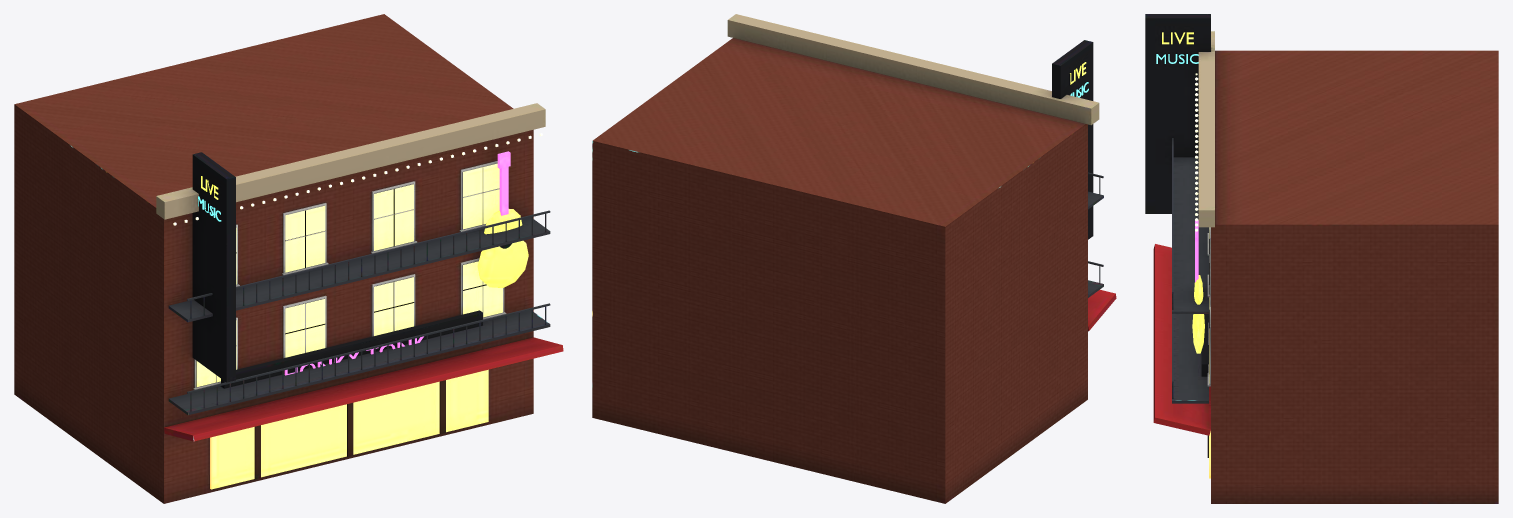
The model's file is honky_tonk.glb.
3 views of the same model, side by side, from view 1: azimuth 30°, elevation 25°; view 2: azimuth 150°, elevation 25°; view 3: azimuth 270°, elevation 25° (orthographic). The views are drawn at different scales.
Visible parts, largest first — view 1: honky_tonk; view 2: honky_tonk; view 3: honky_tonk.
Part boxes in pixels (left/top/right/bottom): honky_tonk: left=14, top=14, right=563, bottom=503; honky_tonk: left=592, top=14, right=1116, bottom=503; honky_tonk: left=1145, top=14, right=1498, bottom=503.
Size of the model in its own units: 20.6 by 17.7 by 17.2.
Materials: 1 (1 with a texture image).
